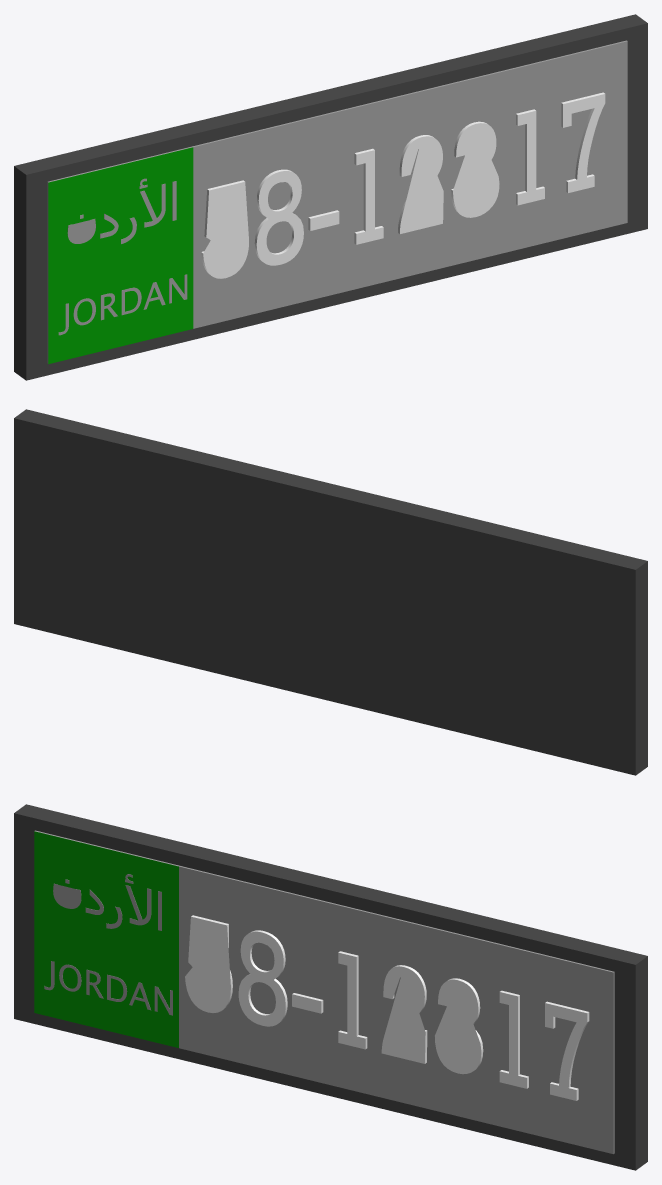
File: Plate2.fbx
The picture shows the model from 3 angles, top to bottom: view 1: azimuth 30°, elevation 25°; view 2: azimuth 150°, elevation 25°; view 3: azimuth 330°, elevation 25°; orthographic projection.
Parts seen in each view (by area): view 1: pCube1, pCube2, typeMesh3, typeMesh1, typeMesh2; view 2: pCube2; view 3: pCube1, pCube2, typeMesh3, typeMesh1, typeMesh2.
Boxes of the visible parts, box(x1,y1,x2,y2) form: pCube1: box(47, 40, 627, 364); pCube2: box(14, 14, 647, 380); typeMesh3: box(201, 92, 605, 278); typeMesh1: box(67, 178, 176, 243); typeMesh2: box(58, 274, 187, 335); pCube2: box(14, 409, 647, 775); pCube1: box(34, 830, 614, 1154); pCube2: box(14, 804, 647, 1170); typeMesh3: box(185, 915, 589, 1100); typeMesh1: box(53, 874, 161, 930); typeMesh2: box(44, 961, 172, 1015).
Bounding box in the file's own units: 1.11 × 0.3516 × 0.047.
